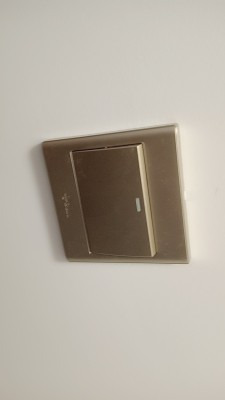switch: (72, 141, 172, 264)
